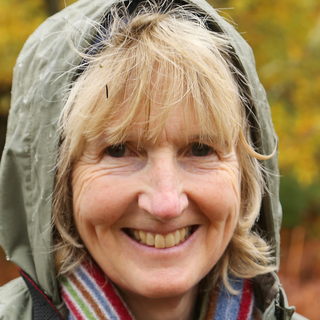eye: (95, 139, 142, 164), (178, 139, 224, 164)
